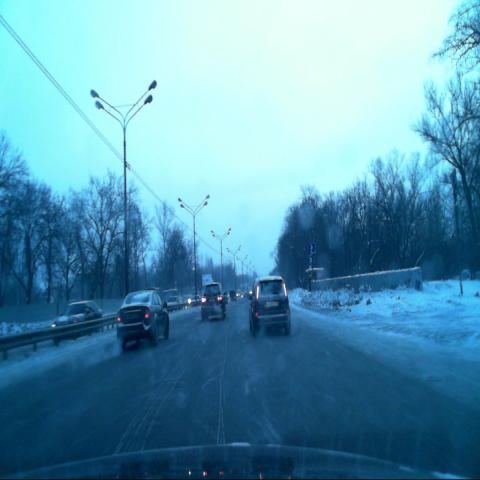6_6: (308, 242, 316, 256)
